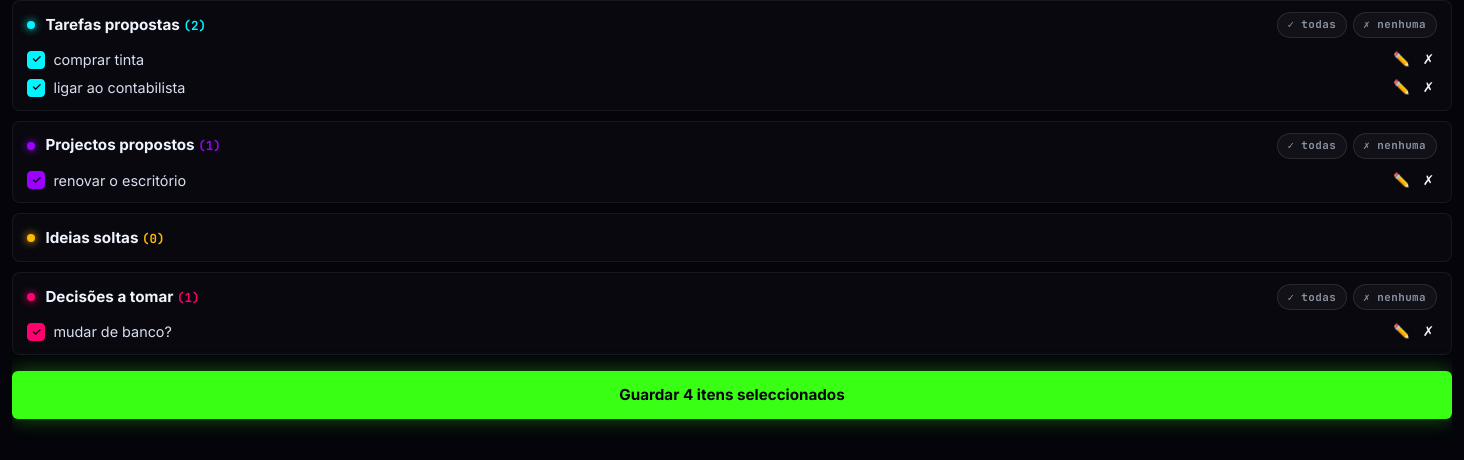
Test: BrainDumpApprovalView › (edição inline) reabrir o editor mostra o texto trimado, não o draft antigo
Click the button named "Editar item: comprar tinta" at (1402, 60), box [1391,51,1412,69]
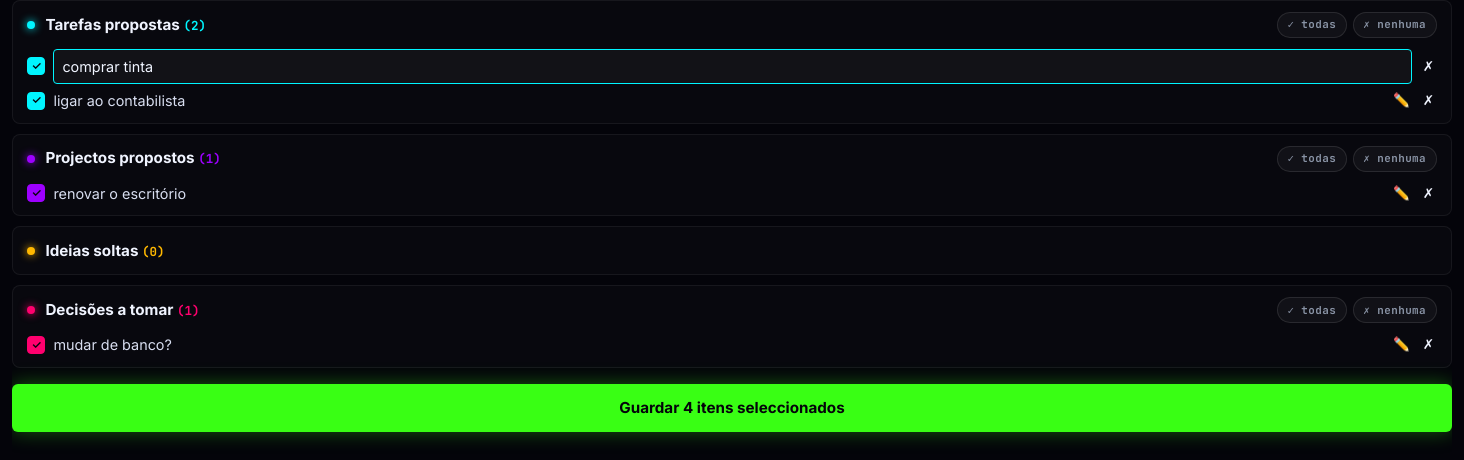
Replace the text in the field with test id "brain-dump-approval-edit-t1" with "  comprar tinta branca  " at (733, 66), box [53,49,1412,84]
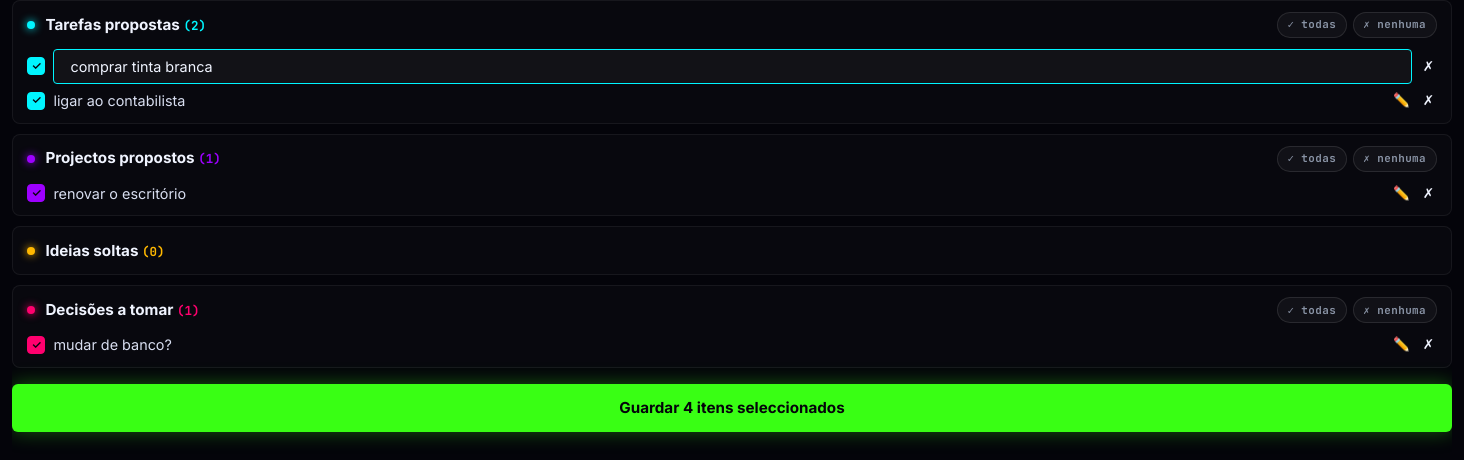
Press Enter in the field with test id "brain-dump-approval-edit-t1", box [53,49,1412,84]
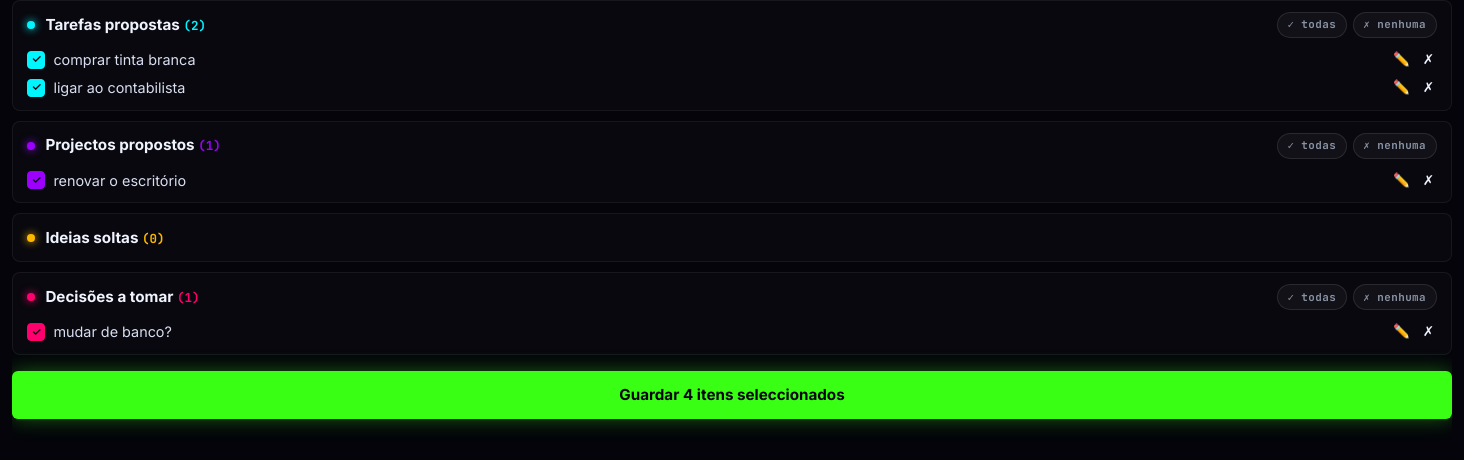
Click the button named "Editar item: comprar tinta branca" at (1402, 60), box [1391,51,1412,69]
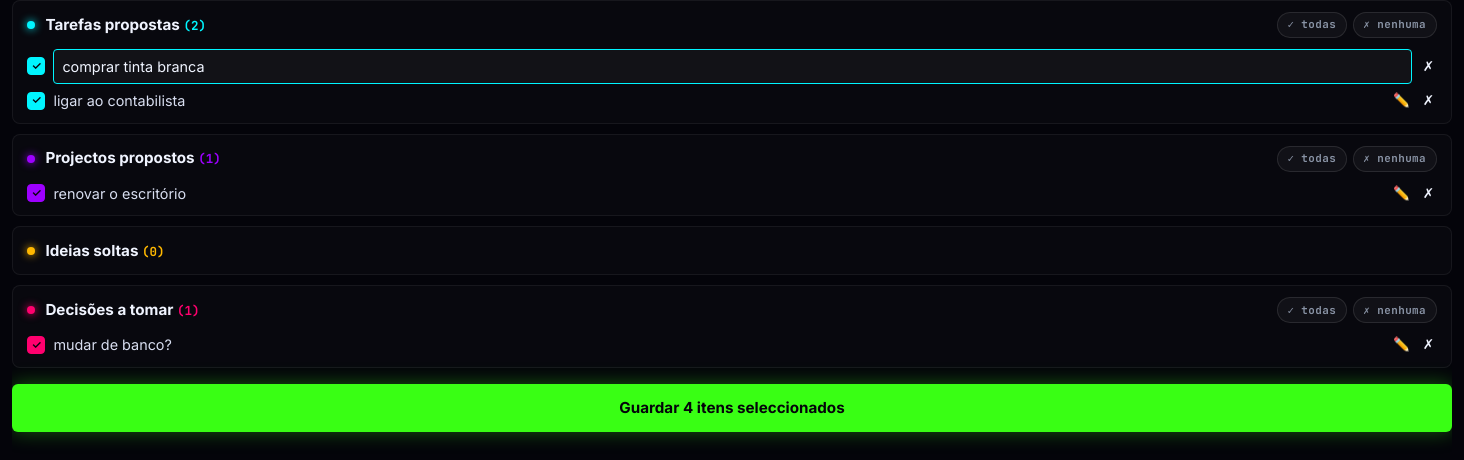
Check: the field with test id "brain-dump-approval-edit-t1" holds "comprar tinta branca", box [53,49,1412,84]
